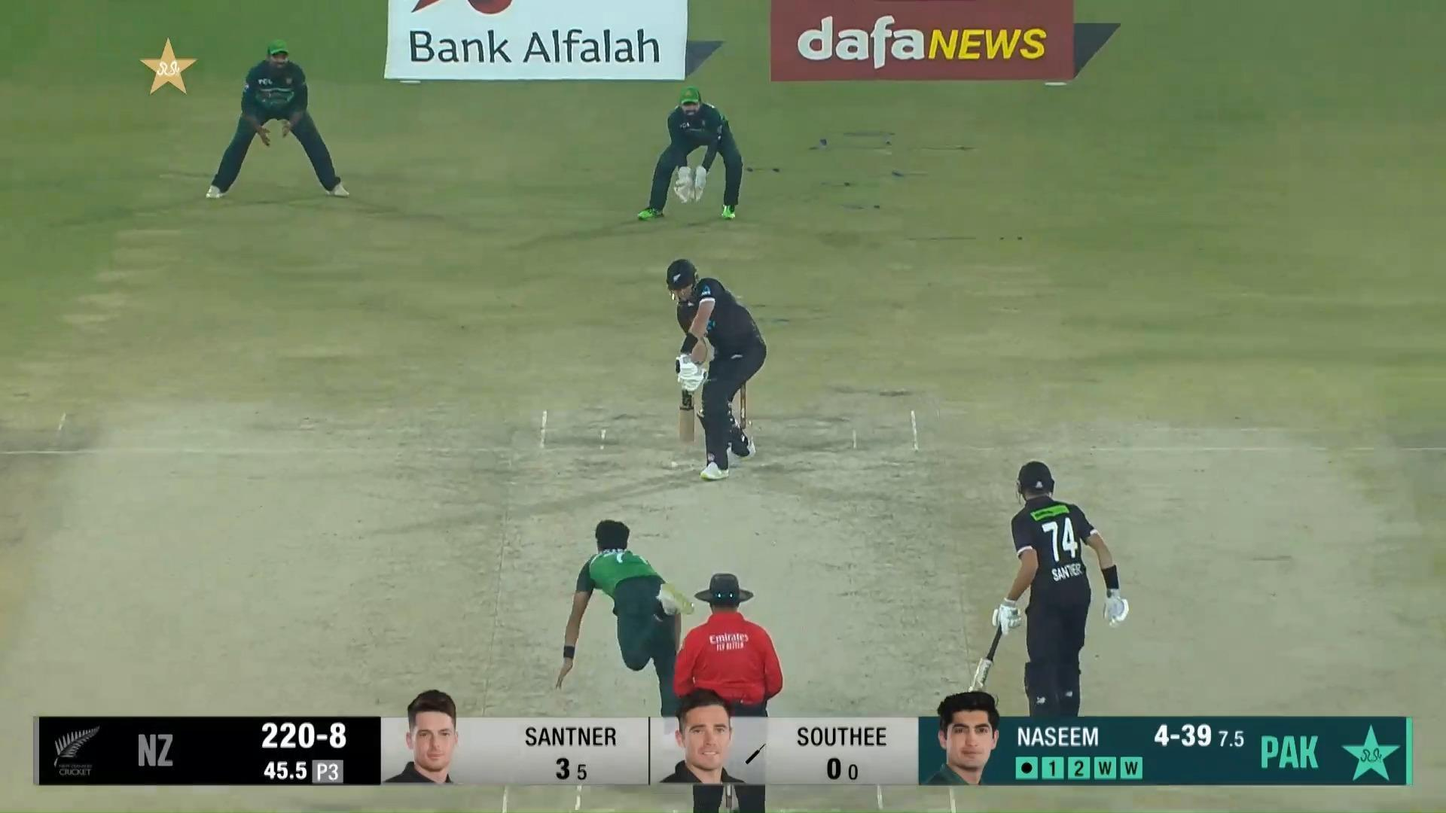BM 1: (666, 259, 767, 480)
BO: (554, 516, 705, 772)
